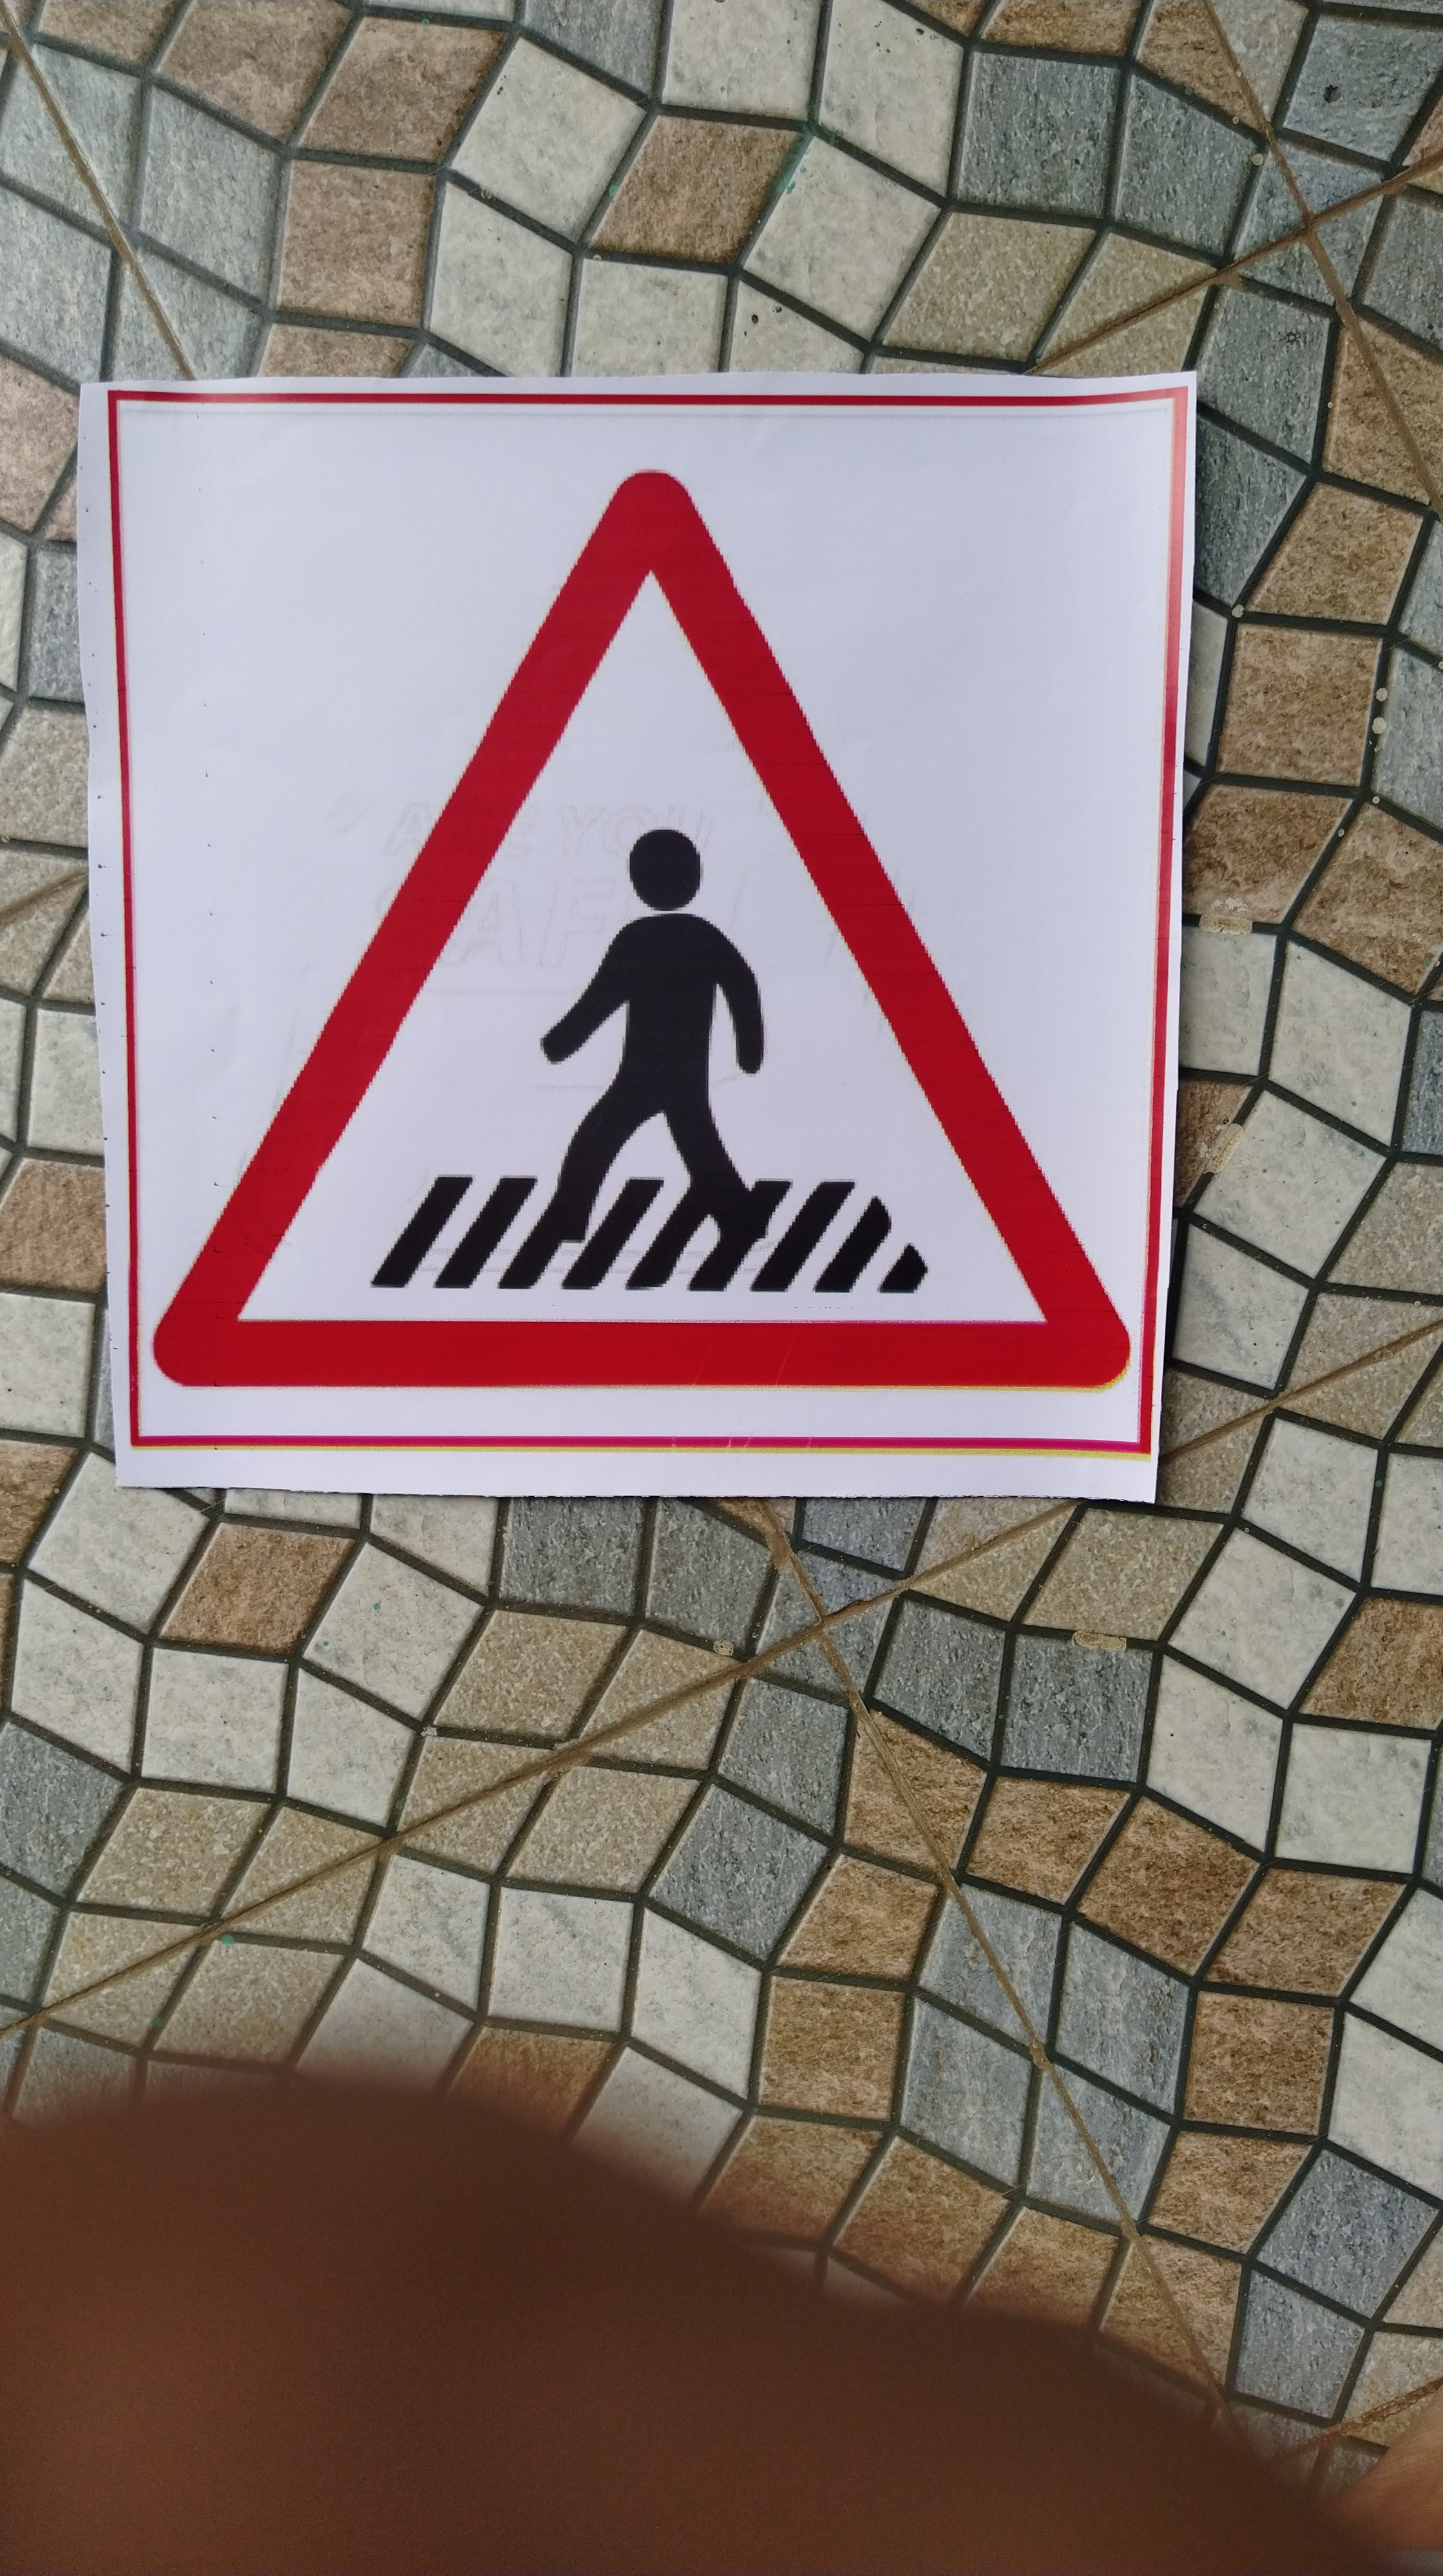pedestrain crossing: (97, 414, 1184, 1518)
